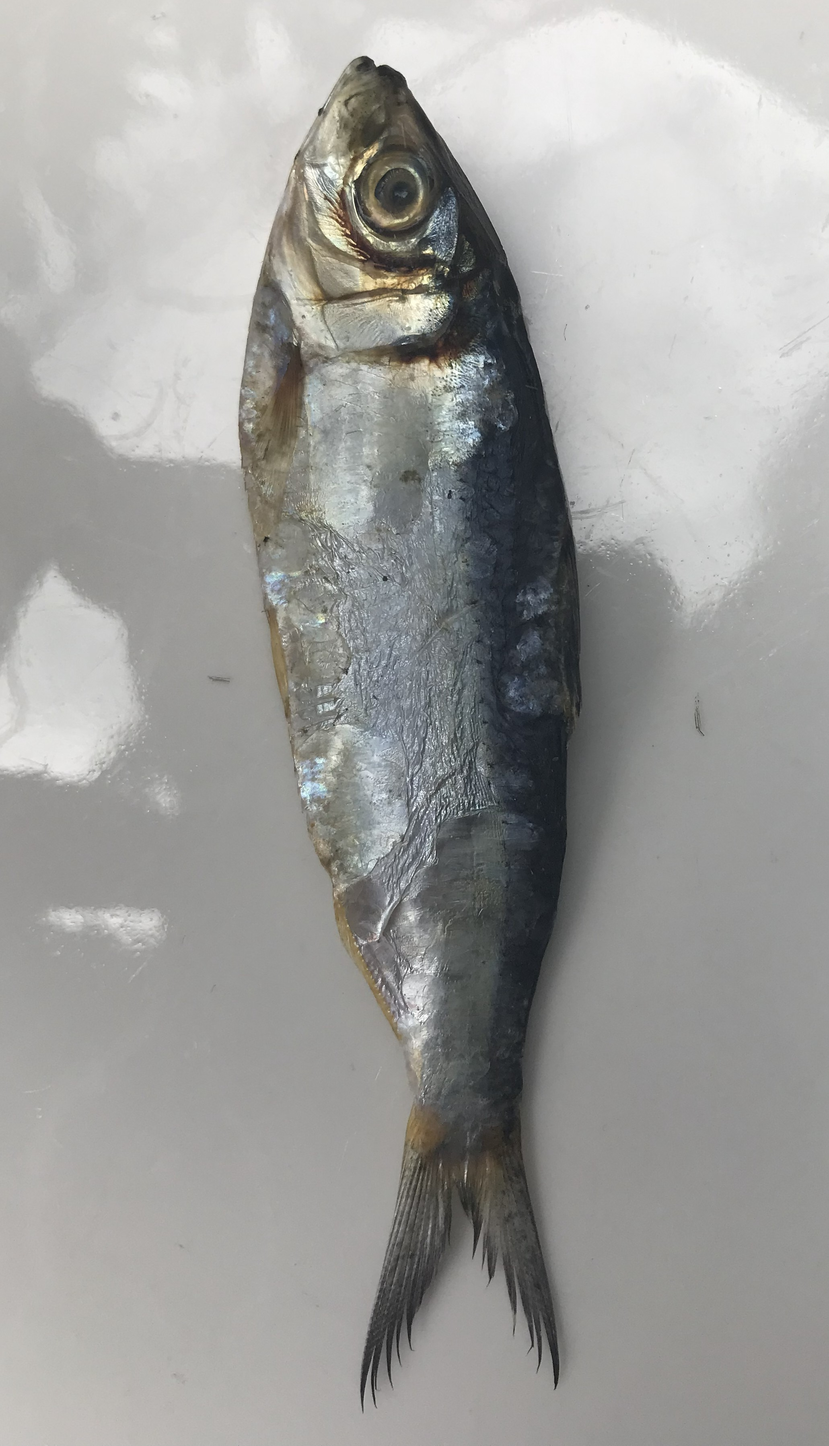tamban_dried_: (239, 56, 658, 1413)
